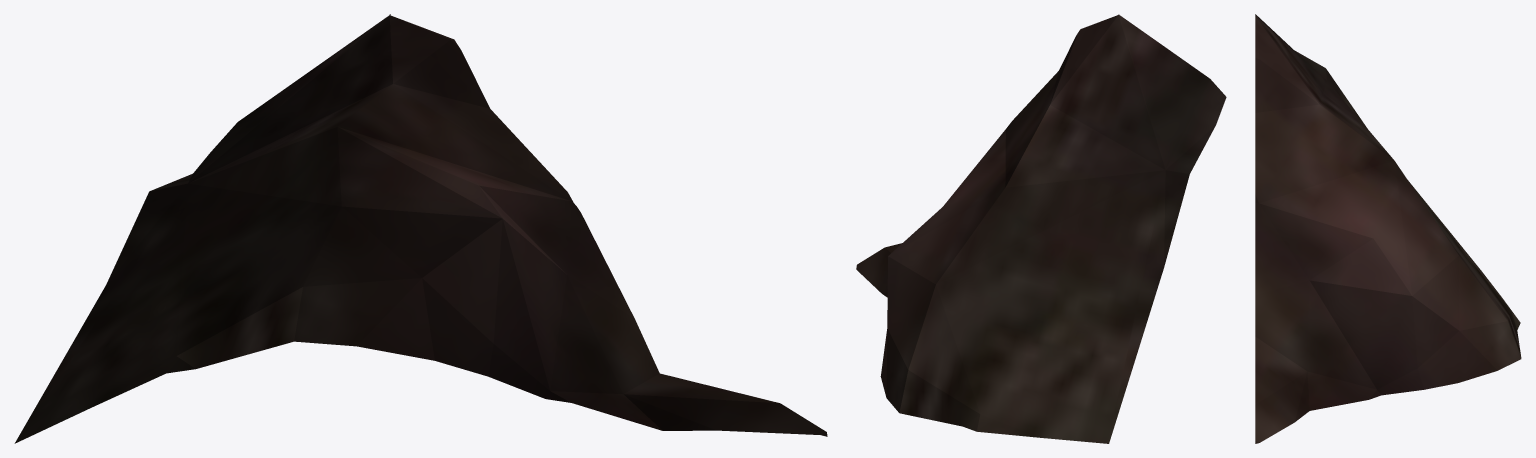
3 views of the same model, side by side, from view 1: azimuth 30°, elevation 25°; view 2: azimuth 150°, elevation 25°; view 3: azimuth 270°, elevation 25° (orthographic). The views are drawn at different scales.
Bounding box in the file's own units: 0.1908 × 0.1564 × 0.1237.
Materials: 1 (1 with a texture image).
